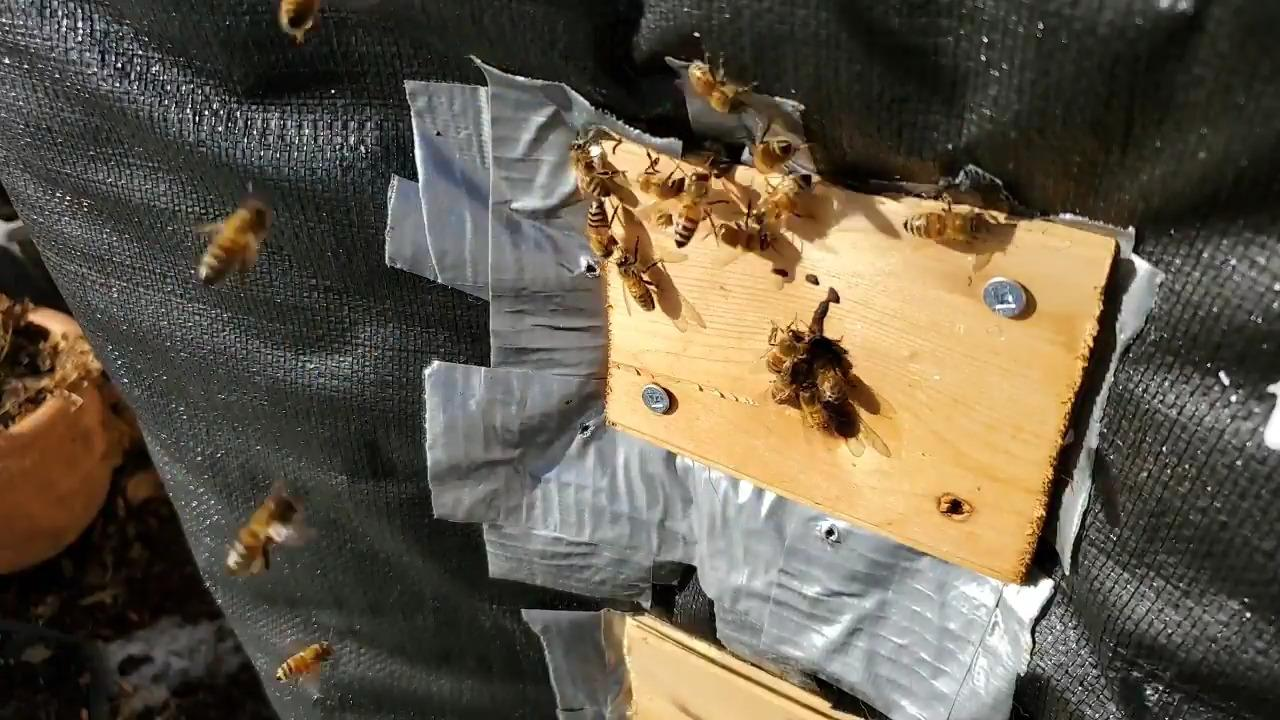bee: (200, 199, 270, 284), (228, 489, 295, 572), (757, 171, 812, 219), (676, 172, 711, 247), (688, 62, 739, 109), (277, 640, 331, 682), (571, 143, 612, 197), (616, 254, 656, 309), (905, 212, 991, 236), (767, 328, 803, 375), (716, 224, 770, 254), (587, 200, 614, 257), (798, 383, 828, 431), (752, 140, 794, 173), (816, 358, 845, 404), (639, 170, 686, 197), (282, 0, 318, 32)
